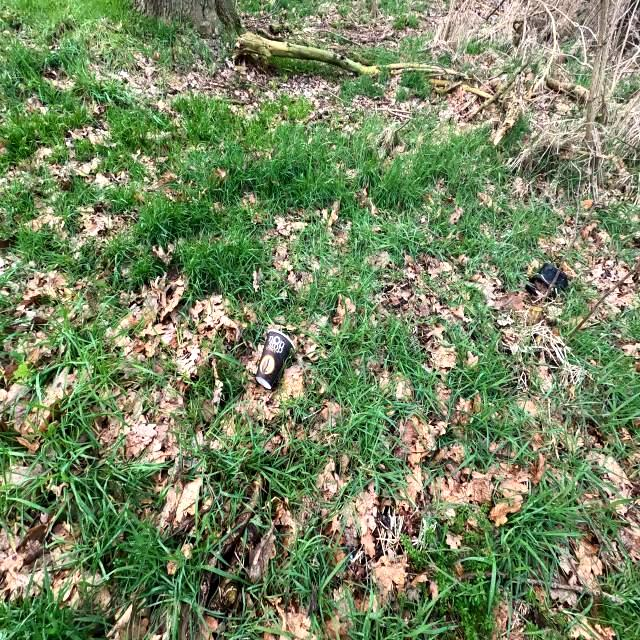Coffee Cup: (252, 326, 296, 392)
